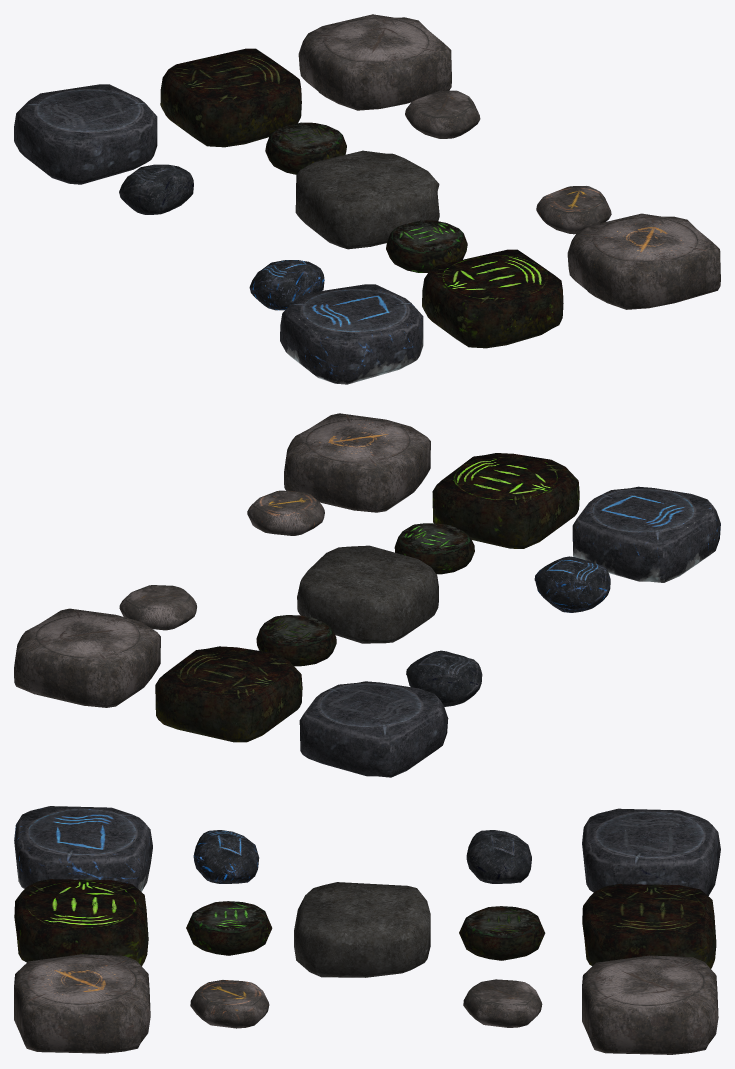
3 renders of one model, top to bottom at view 1: azimuth 30°, elevation 25°; view 2: azimuth 150°, elevation 25°; view 3: azimuth 270°, elevation 25°, orthographic. The views are drawn at different scales.
Parts seen in each view (by area): view 1: Firebolt.Big.001_15, Firebolt.Big_8, Icewave.Big_9, Icewave.Big.001_16, Stormfist.Big.001_17, Rune.Default_11, Stormfist.Big_10, Stormfist.Small.001_12, Stormfist.Small_5, Icewave.Small_7, Firebolt.Small_6, Icewave.Small.001_14 (+1 smaller); view 2: Firebolt.Big_8, Icewave.Big_9, Firebolt.Big.001_15, Icewave.Big.001_16, Stormfist.Big_10, Stormfist.Big.001_17, Rune.Default_11, Icewave.Small.001_14, Stormfist.Small_5, Icewave.Small_7, Stormfist.Small.001_12, Firebolt.Small.001_13 (+1 smaller); view 3: Firebolt.Big.001_15, Firebolt.Big_8, Rune.Default_11, Icewave.Big_9, Stormfist.Big.001_17, Icewave.Big.001_16, Stormfist.Big_10, Stormfist.Small.001_12, Stormfist.Small_5, Firebolt.Small_6, Firebolt.Small.001_13, Icewave.Small_7 (+1 smaller).
Boxes of the visible parts, bbox=[...] form: Firebolt.Big.001_15: bbox=[567, 213, 720, 309]; Firebolt.Big_8: bbox=[298, 14, 451, 110]; Icewave.Big_9: bbox=[14, 84, 157, 184]; Icewave.Big.001_16: bbox=[280, 284, 423, 384]; Stormfist.Big.001_17: bbox=[422, 249, 563, 348]; Rune.Default_11: bbox=[295, 150, 439, 249]; Stormfist.Big_10: bbox=[160, 48, 301, 147]; Stormfist.Small.001_12: bbox=[386, 220, 467, 272]; Stormfist.Small_5: bbox=[265, 122, 346, 174]; Icewave.Small_7: bbox=[119, 164, 193, 214]; Firebolt.Small_6: bbox=[405, 90, 480, 138]; Icewave.Small.001_14: bbox=[249, 260, 324, 310]; Firebolt.Big_8: bbox=[14, 608, 160, 707]; Icewave.Big_9: bbox=[299, 681, 448, 777]; Firebolt.Big.001_15: bbox=[284, 413, 430, 512]; Icewave.Big.001_16: bbox=[572, 486, 720, 582]; Stormfist.Big_10: bbox=[155, 646, 302, 742]; Stormfist.Big.001_17: bbox=[432, 453, 579, 548]; Rune.Default_11: bbox=[297, 545, 438, 643]; Icewave.Small.001_14: bbox=[534, 556, 610, 612]; Stormfist.Small_5: bbox=[256, 615, 336, 666]; Icewave.Small_7: bbox=[406, 650, 482, 706]; Stormfist.Small.001_12: bbox=[394, 523, 474, 574]; Firebolt.Small.001_13: bbox=[247, 490, 324, 535]; Firebolt.Big.001_15: bbox=[14, 954, 150, 1053]; Firebolt.Big_8: bbox=[582, 955, 718, 1054]; Rune.Default_11: bbox=[294, 882, 430, 977]; Icewave.Big_9: bbox=[582, 808, 720, 895]; Stormfist.Big.001_17: bbox=[14, 879, 148, 965]; Icewave.Big.001_16: bbox=[14, 806, 152, 891]; Stormfist.Big_10: bbox=[582, 884, 716, 968]; Stormfist.Small.001_12: bbox=[186, 901, 272, 955]; Stormfist.Small_5: bbox=[459, 906, 545, 960]; Firebolt.Small_6: bbox=[463, 979, 542, 1027]; Firebolt.Small.001_13: bbox=[190, 980, 269, 1028]; Icewave.Small_7: bbox=[466, 830, 531, 883].
Bounding box in the file's own units: 0.3963 × 0.0458 × 0.5661.
Materials: 13 (13 with a texture image).
